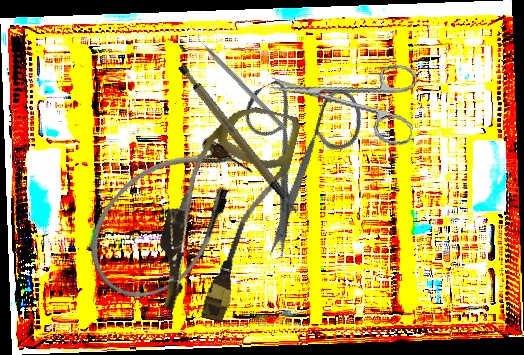Cannula: (66, 114, 271, 320), (144, 92, 303, 330)
Chopper: (190, 26, 293, 132)
Iris Scissors: (200, 52, 404, 262), (263, 41, 425, 148)
Scalpel Handle: (175, 52, 299, 229)
